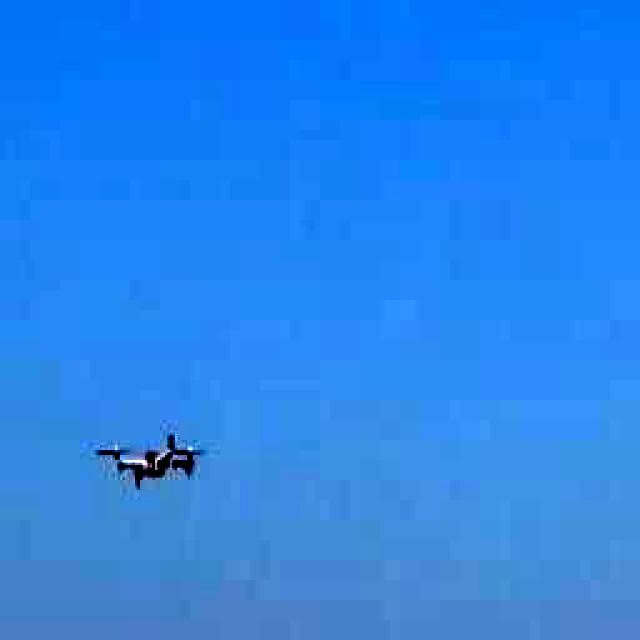bird: (96, 412, 211, 492)
